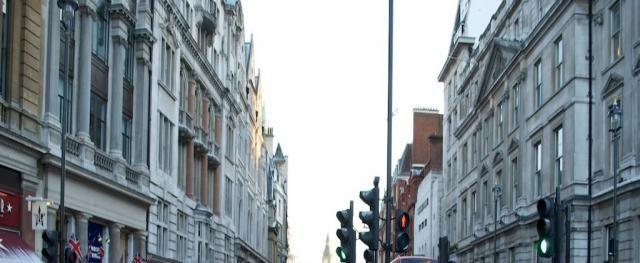green_light: (536, 196, 557, 258), (336, 209, 351, 263)
